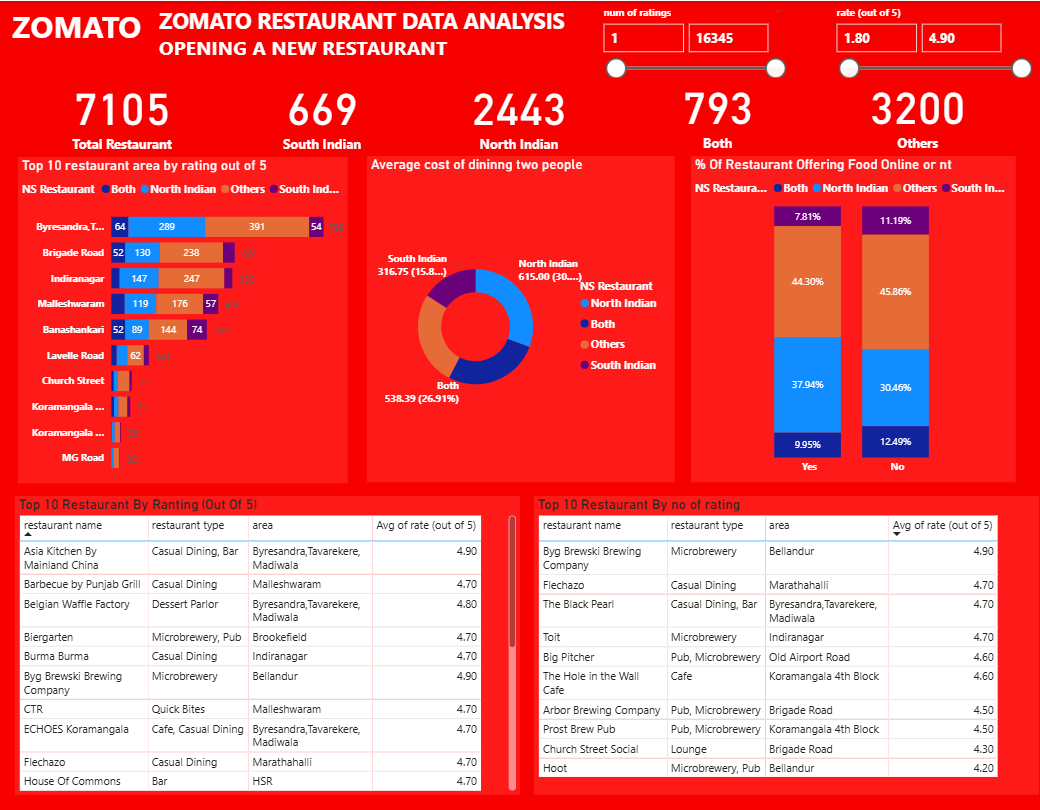

The page's visual inventory and layout, read from the dashboard file:
{"tool":"powerbi","page":{"name":"Page 1","canvas":[1280,1000],"ordinal":0},"visuals":[{"type":"card","fields":{"Values":["Count(zomato.restaurant name)"]},"box":[17.5,106.3,214.3,106.3],"z":0},{"type":"card","fields":{"Values":["Count(zomato.restaurant name)"]},"box":[266.7,106.3,209.5,107.9],"z":1000},{"type":"card","fields":{"Values":["Count(zomato.restaurant name)"]},"box":[996.8,104.8,215.9,107.9],"z":2000},{"type":"card","fields":{"Values":["Count(zomato.restaurant name)"]},"box":[750.8,104.8,215.9,107.9],"z":3000},{"type":"card","fields":{"Values":["Count(zomato.restaurant name)"]},"box":[506.3,106.3,214.3,107.9],"z":4000},{"type":"barChart","title":"Top 10 restaurant area by rating out of 5","fields":{"Category":["zomato.area"],"Y":["CountNonNull(zomato.NS Restaurant)"],"Series":["zomato.NS Restaurant"]},"box":[1.6,220.6,406.3,401.6],"z":5000},{"type":"donutChart","title":"Average cost of dininng two people","fields":{"Y":["Avg(zomato.avg cost (two people))"],"Category":["zomato.NS Restaurant"]},"box":[427,220.6,379.4,401.6],"z":6000},{"type":"hundredPercentStackedColumnChart","title":"% Of Restaurant Offering Food Online or nt","fields":{"Category":["zomato.online_order"],"Series":["zomato.NS Restaurant"],"Y":["CountNonNull(zomato.restaurant name)"]},"box":[825.4,220.6,400,401.6],"z":7000},{"type":"tableEx","title":"Top 10 Restaurant By Ranting (Out Of 5)","fields":{"Values":["zomato.restaurant name","zomato.restaurant type","zomato.area","Avg(zomato.rate (out of 5))"]},"box":[17.5,628.2,622.2,368.3],"z":8000},{"type":"tableEx","title":"Top 10 Restaurant By no of rating","fields":{"Values":["zomato.restaurant name","zomato.restaurant type","zomato.area","Avg(zomato.rate (out of 5))"]},"box":[657.1,640.1,622.2,344.4],"z":9000},{"type":"textbox","box":[190.5,0,515.9,104.8],"z":10000},{"type":"image","box":[0,0,190.5,106.3],"z":11000},{"type":"slicer","fields":{"Values":["zomato.num of ratings"]},"box":[720.6,11.1,246,95.2],"z":12000},{"type":"slicer","fields":{"Values":["zomato.rate (out of 5)"]},"box":[979.4,11.1,261.9,95.2],"z":13000}]}

Visuals, with their boxes in screenshot pixels (x1, y1, x2, y2), scaled from the page's 1280x1000 canvas onto the 1040x810 screenshot:
card - Count(zomato.restaurant name): l=14, t=86, r=188, b=172
card - Count(zomato.restaurant name): l=217, t=86, r=387, b=174
card - Count(zomato.restaurant name): l=810, t=85, r=985, b=172
card - Count(zomato.restaurant name): l=610, t=85, r=785, b=172
card - Count(zomato.restaurant name): l=411, t=86, r=585, b=174
"Top 10 restaurant area by rating out of 5" barChart: l=1, t=179, r=331, b=504
"Average cost of dininng two people" donutChart: l=347, t=179, r=655, b=504
"% Of Restaurant Offering Food Online or nt" hundredPercentStackedColumnChart: l=671, t=179, r=996, b=504
"Top 10 Restaurant By Ranting (Out Of 5)" tableEx: l=14, t=509, r=520, b=807
"Top 10 Restaurant By no of rating" tableEx: l=534, t=518, r=1039, b=797
textbox: l=155, t=0, r=574, b=85
image: l=0, t=0, r=155, b=86
slicer - zomato.num of ratings: l=585, t=9, r=785, b=86
slicer - zomato.rate (out of 5): l=796, t=9, r=1009, b=86
